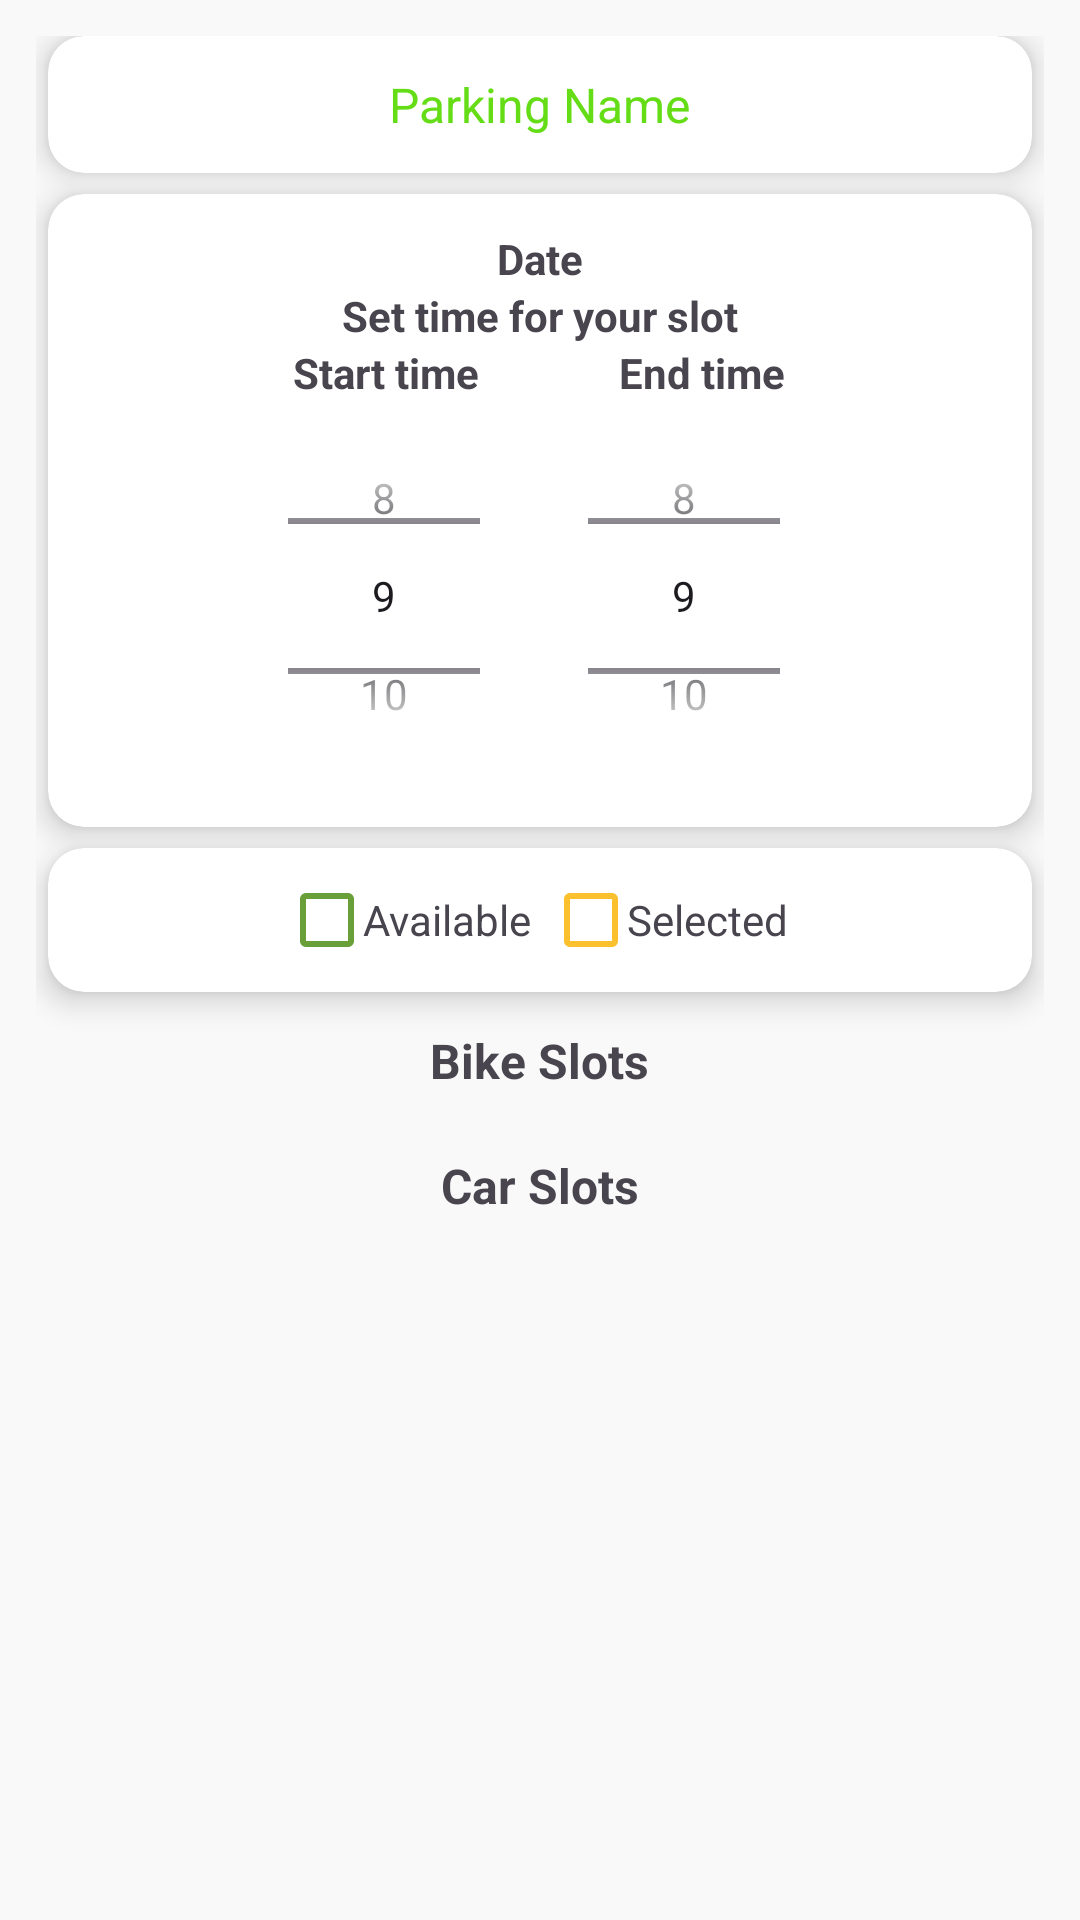

Icons on this 1080px×1920px Android screen, each with its box as (x1, y1, x2, y2):
box: (300, 893, 354, 947), (564, 893, 618, 947)
